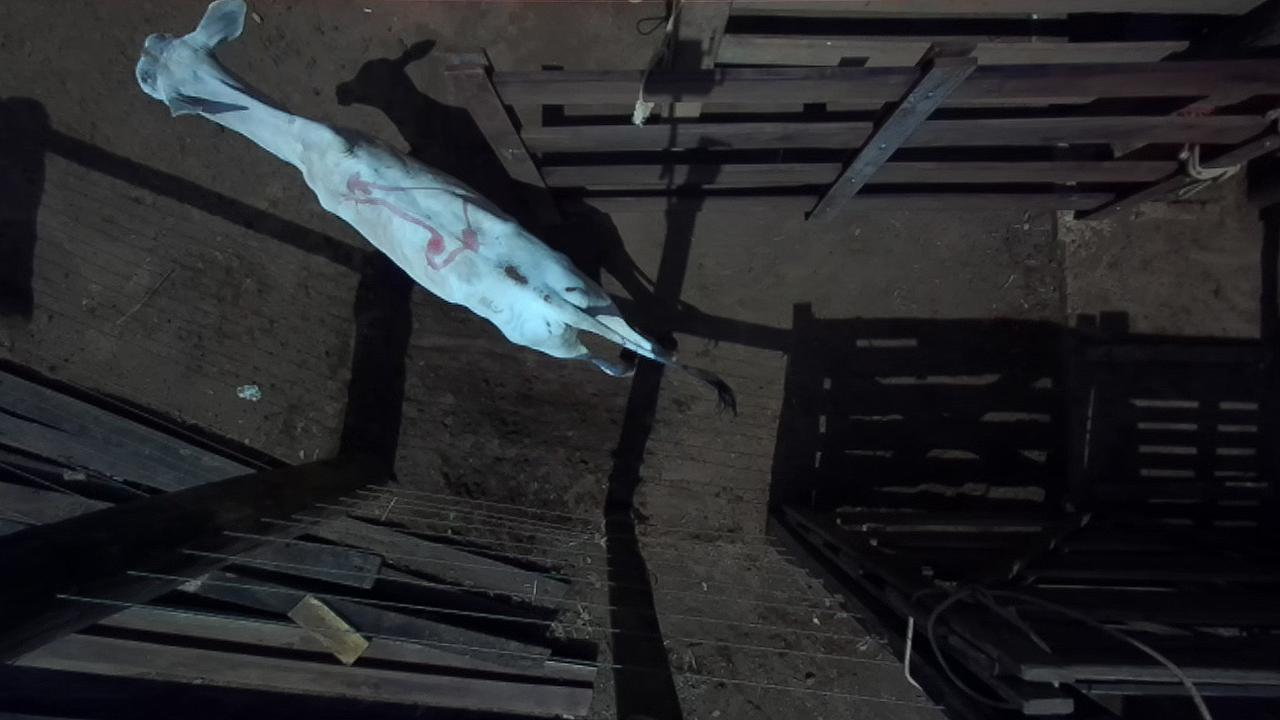cattle: (133, 0, 737, 418)
